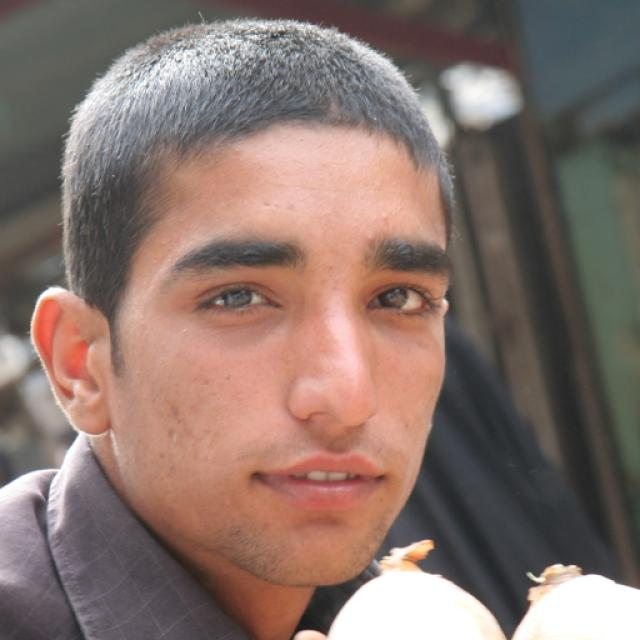Acne: (359, 228, 378, 249), (376, 208, 390, 223)
